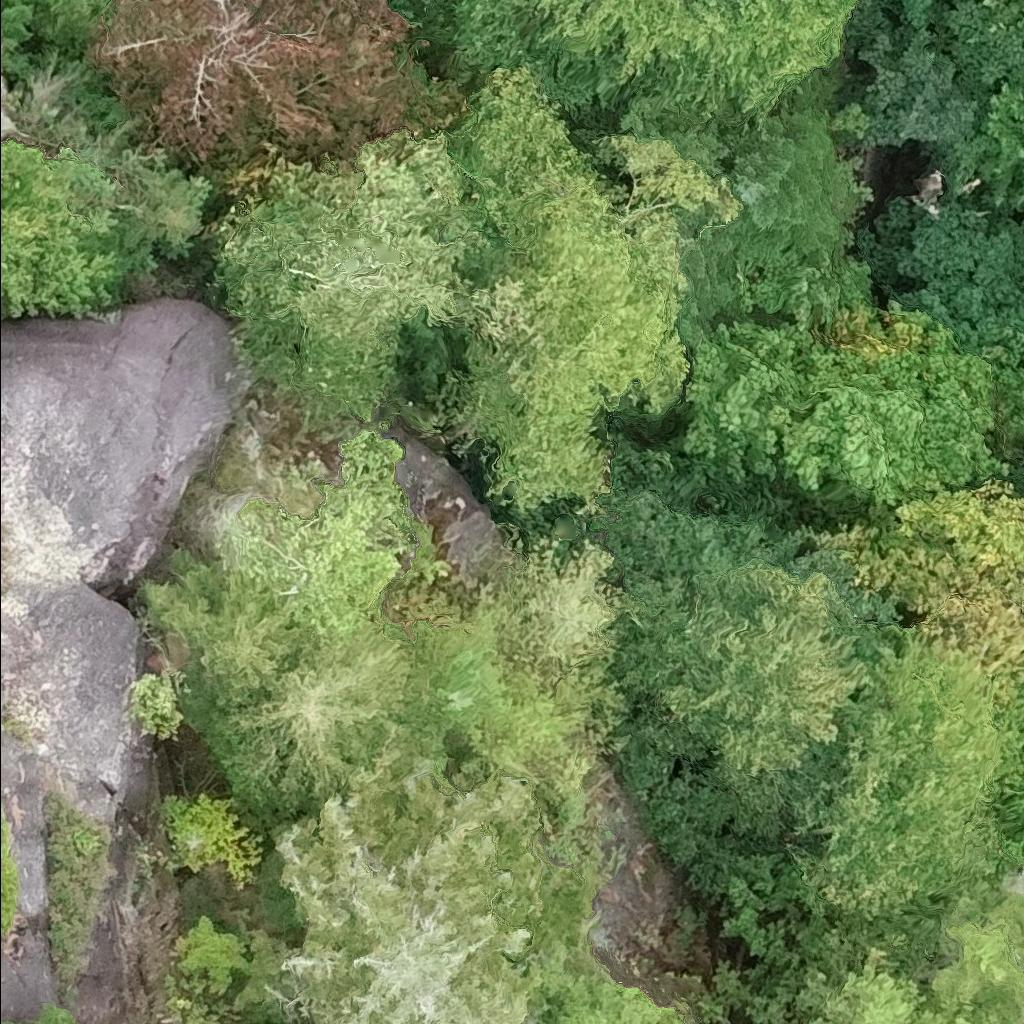crown: (235, 771, 594, 1023), (213, 129, 479, 415), (88, 0, 431, 170), (217, 625, 449, 820), (523, 0, 859, 124), (241, 435, 411, 641), (716, 97, 850, 275), (0, 145, 123, 318), (0, 864, 14, 940), (30, 1003, 75, 1023)
